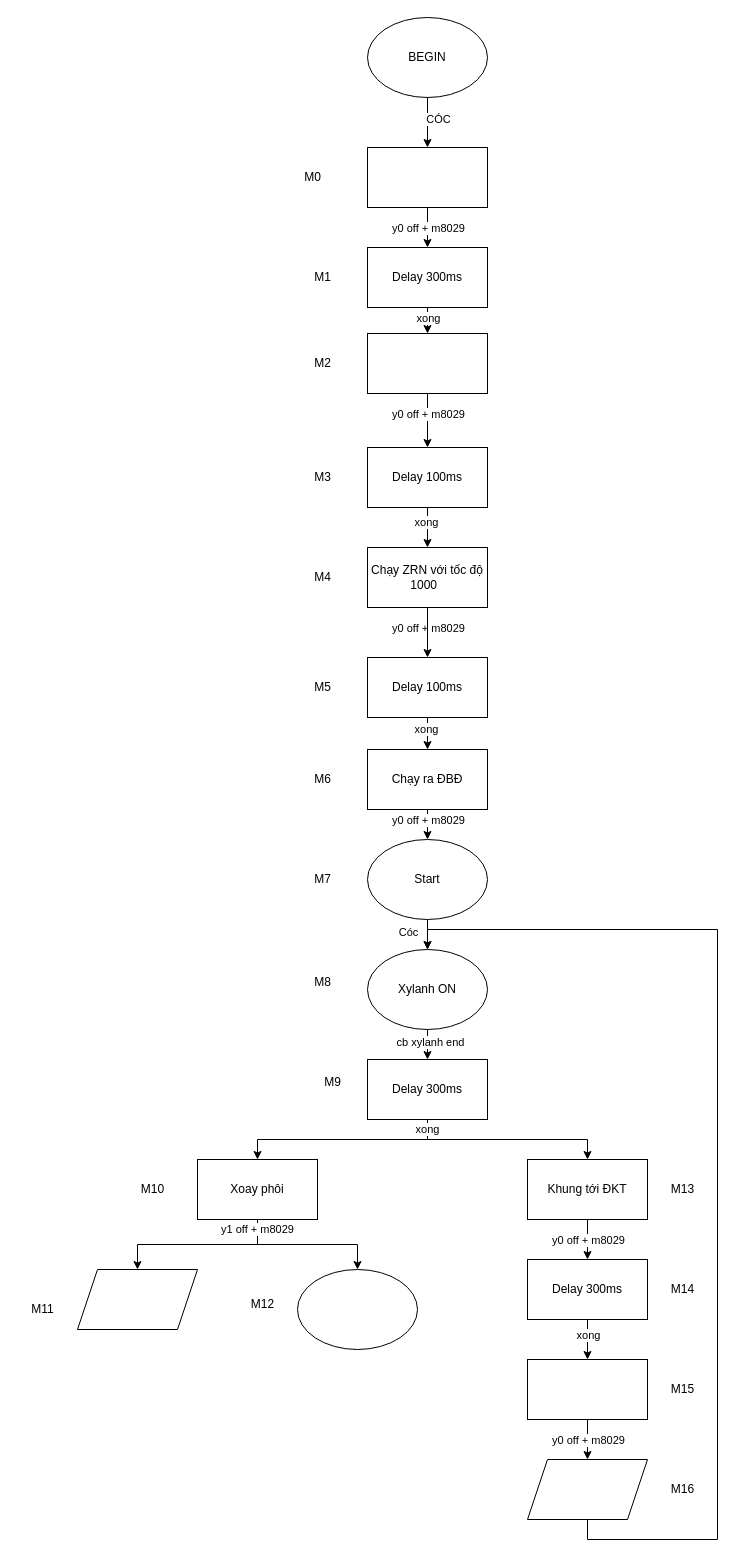
This 743x1565 diagram has some shape labels left out. Each missing label, with the box of its shape:
Chạy ngược ra ddrvi -200 xung tốc độ chậm: (366, 332, 488, 394)
Chạy về home ZRN tốc độ nhanh 5000: (366, 146, 488, 208)
Dao OFF: (526, 1458, 648, 1520)
Dao ON: (296, 1268, 418, 1350)
Khung tới ĐBĐ: (526, 1358, 648, 1420)
Xylanh OFF: (76, 1268, 198, 1330)
